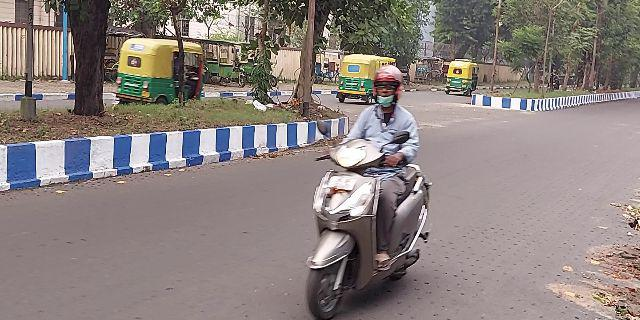Autorickshaw: (117, 38, 211, 105), (335, 53, 397, 101), (446, 64, 482, 94)
Motorbike: (296, 64, 440, 311)
